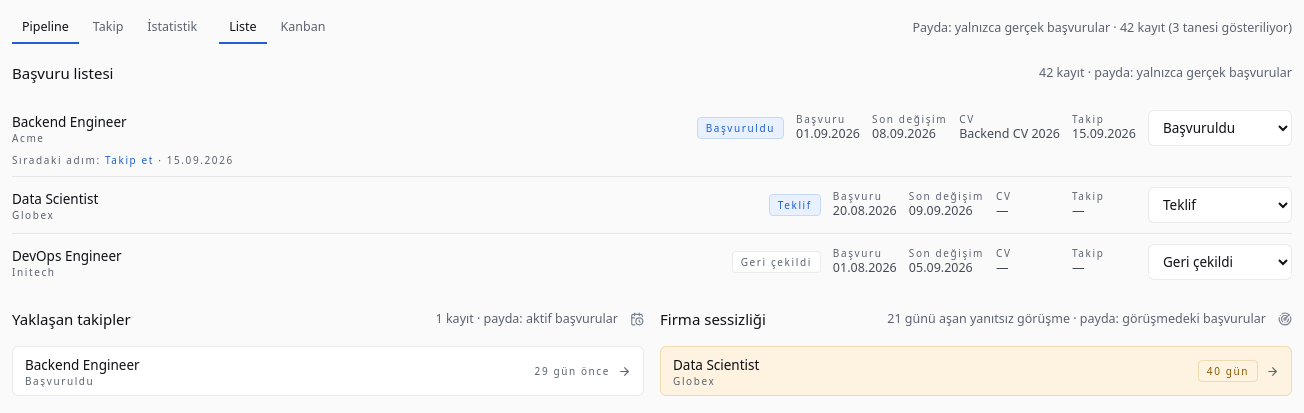
Scenario: ApplicationsWorkspace › kanban kovalarını application durumlarından türetir
Click the tab "Kanban" at (303, 28), box [270,12,335,44]
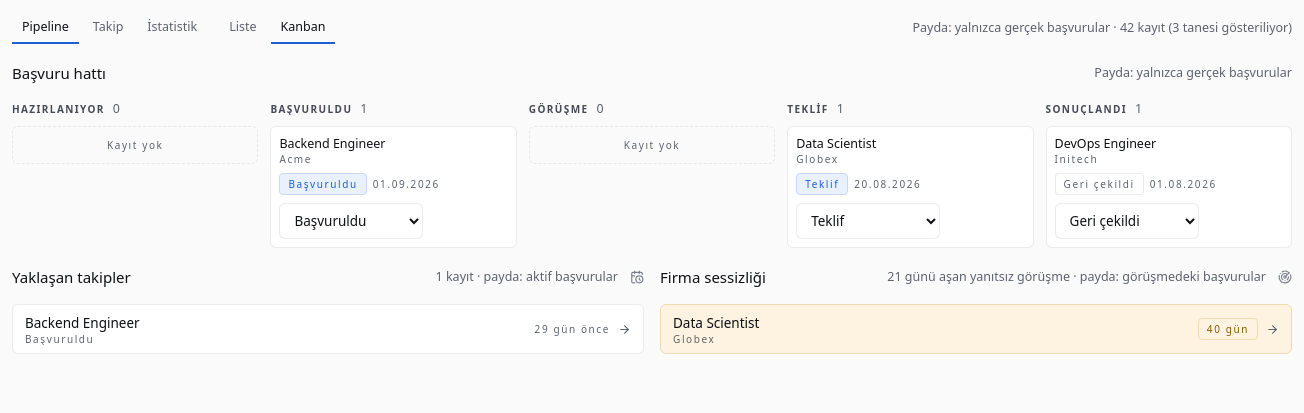
Expected: the element "Hazırlanıyor" is shown, [12,100,258,164]
Expected: the element "Başvuruldu" is shown, [270,100,517,248]
Expected: the element "Görüşme" is shown, [529,100,775,164]
